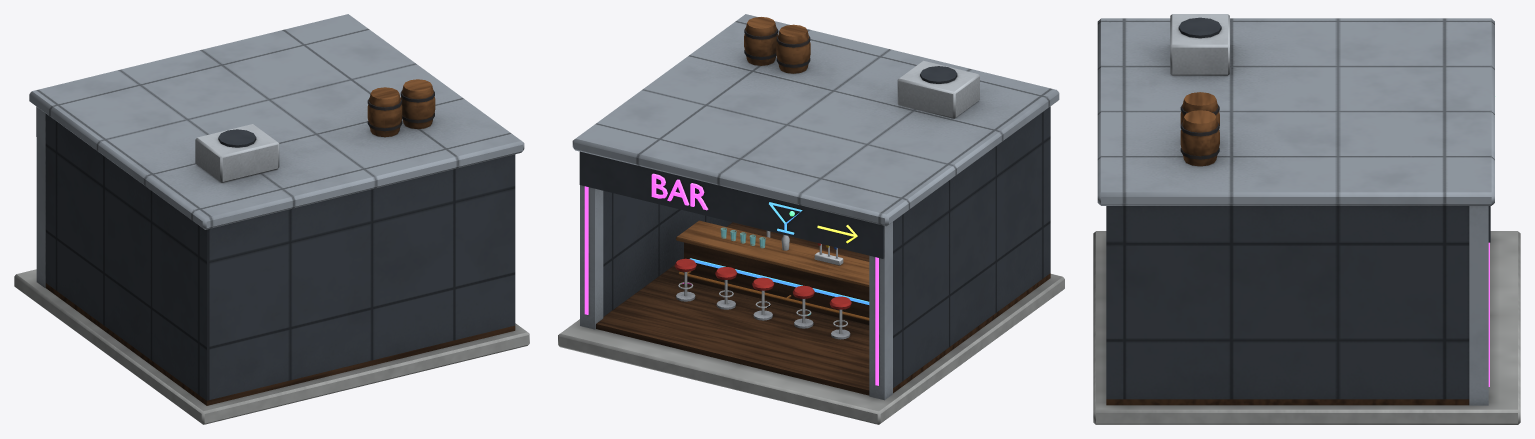
Rendered from bar_cantina.fbx.
3 renders of one model, left to right at view 1: azimuth 30°, elevation 25°; view 2: azimuth 150°, elevation 25°; view 3: azimuth 270°, elevation 25°, orthographic. The views are drawn at different scales.
Visible parts, largest first — view 1: bar_cantina; view 2: bar_cantina, bar_cantina_rosa_neon, bar_cantina_azul_neon; view 3: bar_cantina.
Boxes of the visible parts, <box> form: bar_cantina: <box>14,14,529,424</box>; bar_cantina: <box>558,14,1064,424</box>; bar_cantina_rosa_neon: <box>584,173,878,385</box>; bar_cantina_azul_neon: <box>690,202,869,304</box>; bar_cantina: <box>1093,14,1520,424</box>.
Bounding box in the file's own units: 10 × 7.05 × 10.
3 materials, 3 textured.
